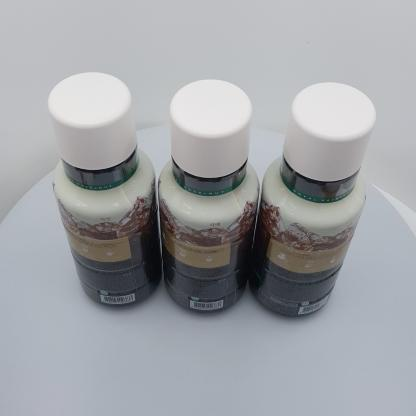--------1-1L: (248, 82, 376, 317), (47, 72, 163, 307), (158, 79, 260, 314)
